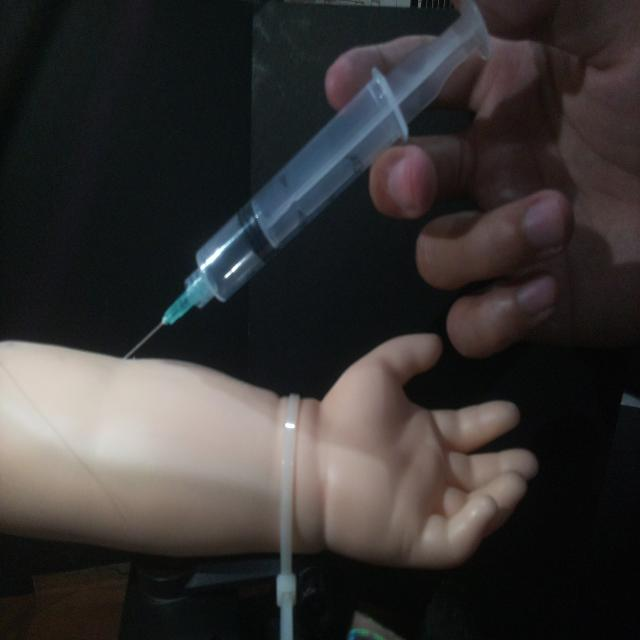30deg: (118, 3, 494, 362)
